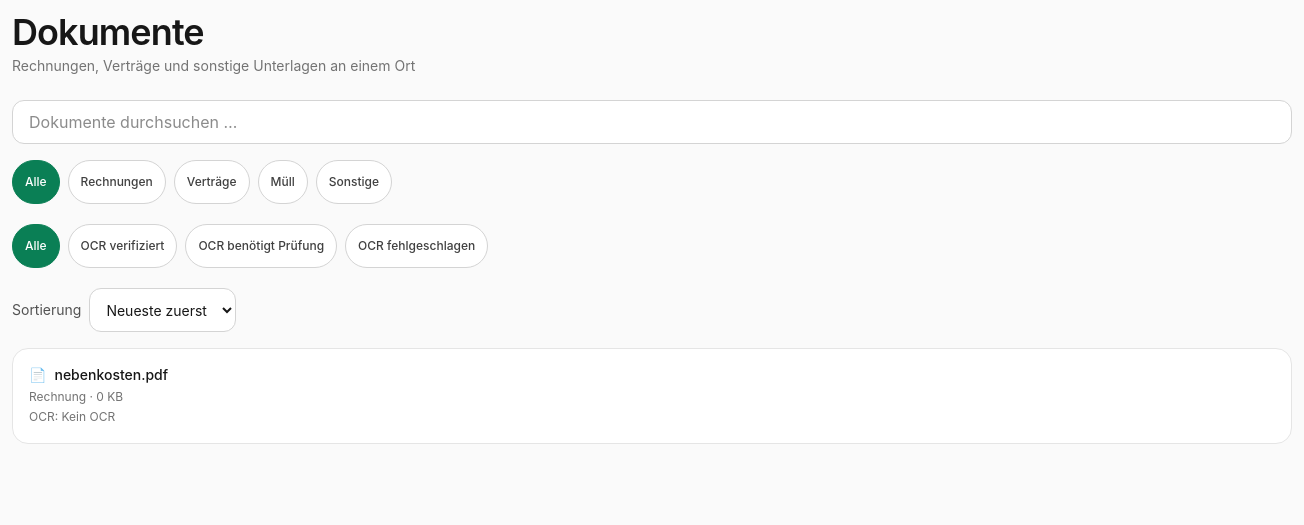
Scenario: DocumentsPage › shows a dedicated message for an empty search result
The width and height of the screenshot is (1304, 525).
In the search field labelled "Dokumente durchsuchen": (652, 122) left=12, top=100, right=1292, bottom=144, type "does-not-exist"
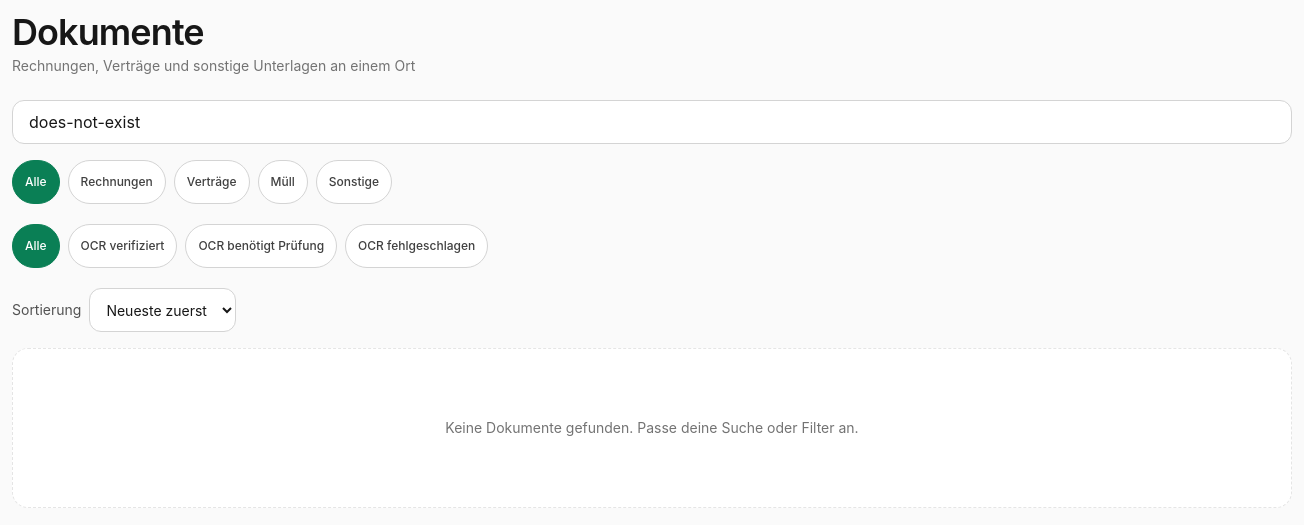
Expected: the text "Keine Dokumente gefunden. Passe deine Suche oder Filter an." is shown, left=445, top=418, right=859, bottom=438
